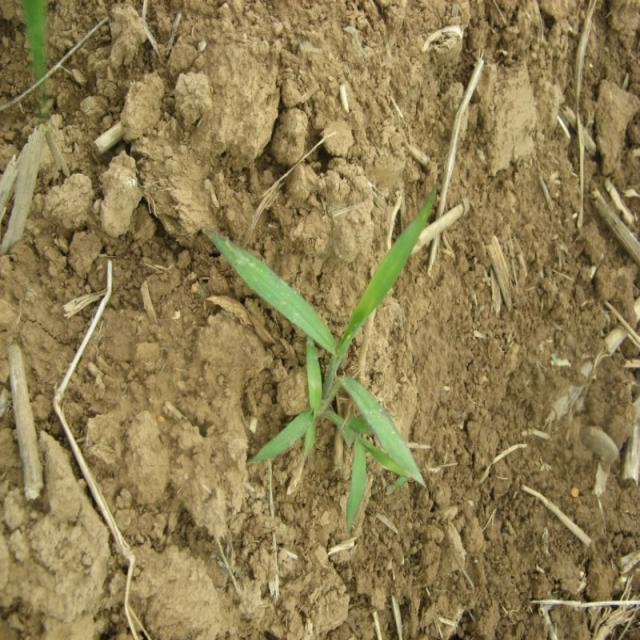bg: (198, 191, 435, 526)
